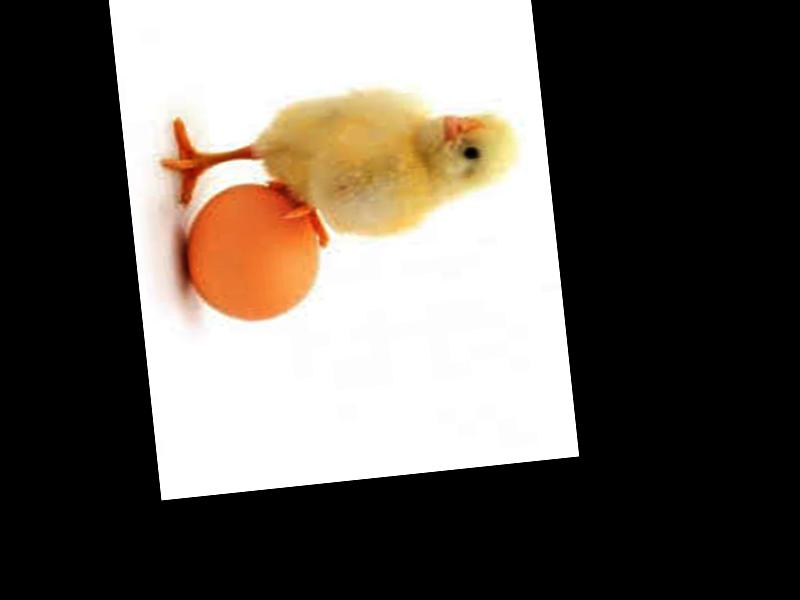Eggs: (180, 174, 331, 328)
